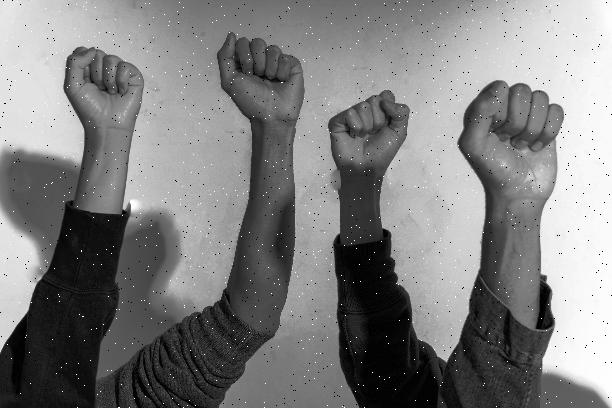Rock: (452, 72, 573, 204), (324, 78, 415, 183), (214, 26, 309, 122), (56, 40, 152, 135)
